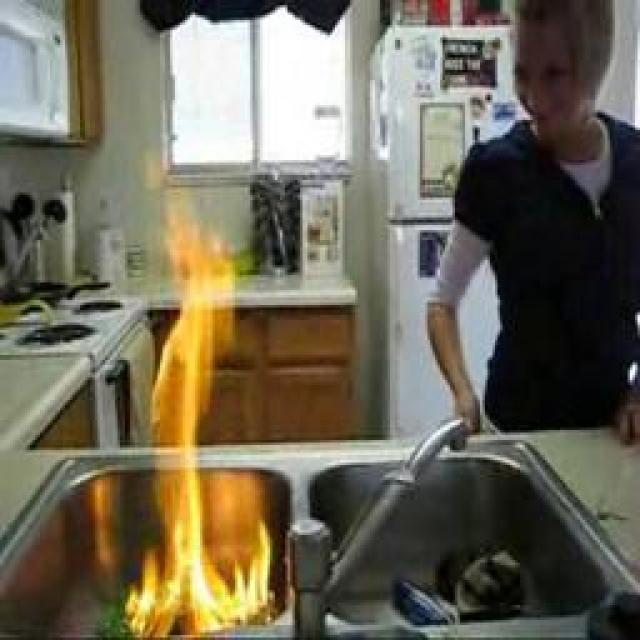Fire: (128, 171, 272, 640)
